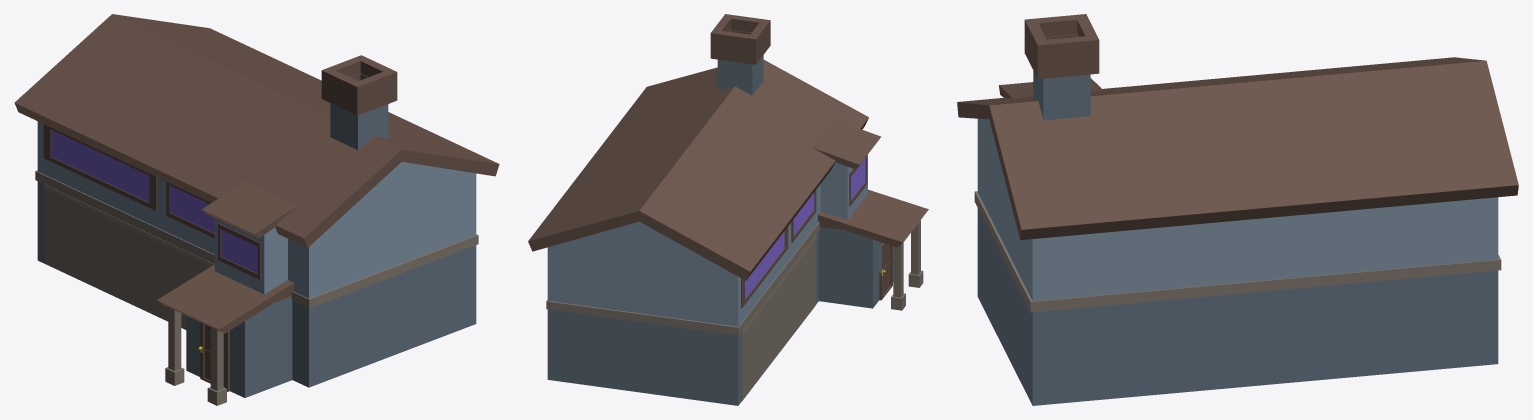
File: CALLE2_CASA_2_001.fbx
3 views of the same model, side by side, from view 1: azimuth 30°, elevation 25°; view 2: azimuth 150°, elevation 25°; view 3: azimuth 270°, elevation 25° (orthographic). The views are drawn at different scales.
Visible parts, largest first — view 1: CASA 2.001; view 2: CASA 2.001; view 3: CASA 2.001.
Boxes of the visible parts, bbox=[...] form: CASA 2.001: bbox=[14, 14, 499, 405]; CASA 2.001: bbox=[528, 14, 928, 405]; CASA 2.001: bbox=[957, 14, 1518, 405].
Bounding box in the file's own units: 835 × 680 × 1095.
